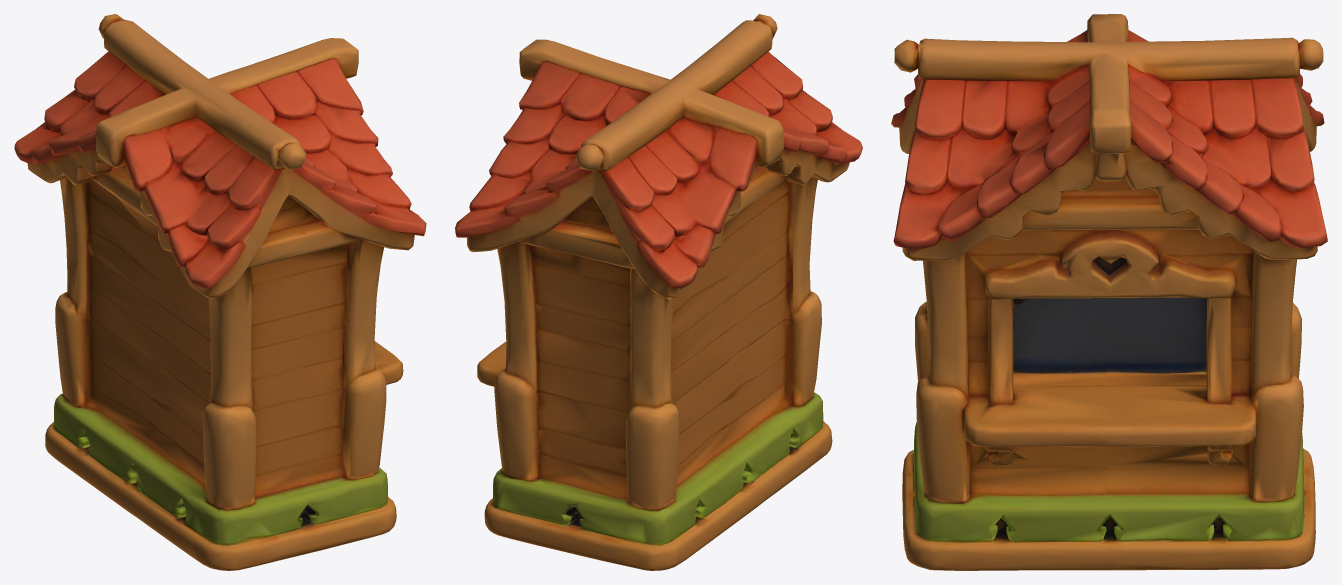
Rendered from ticket_booth.glb.
3 renders of one model, left to right at view 1: azimuth 30°, elevation 25°; view 2: azimuth 150°, elevation 25°; view 3: azimuth 270°, elevation 25°, orthographic. The views are drawn at different scales.
Parts seen in each view (by area): view 1: tripo_node_f0924fcc-2183-4f5b-855f-0f1394526d4d; view 2: tripo_node_f0924fcc-2183-4f5b-855f-0f1394526d4d; view 3: tripo_node_f0924fcc-2183-4f5b-855f-0f1394526d4d.
Boxes of the visible parts, x1,y1,x2,y2 form: tripo_node_f0924fcc-2183-4f5b-855f-0f1394526d4d: [14, 14, 426, 570]; tripo_node_f0924fcc-2183-4f5b-855f-0f1394526d4d: [455, 14, 862, 570]; tripo_node_f0924fcc-2183-4f5b-855f-0f1394526d4d: [891, 14, 1327, 570].
Size of the model in its own units: 0.1895 by 0.3 by 0.2511.
Materials: 1 (1 with a texture image).
